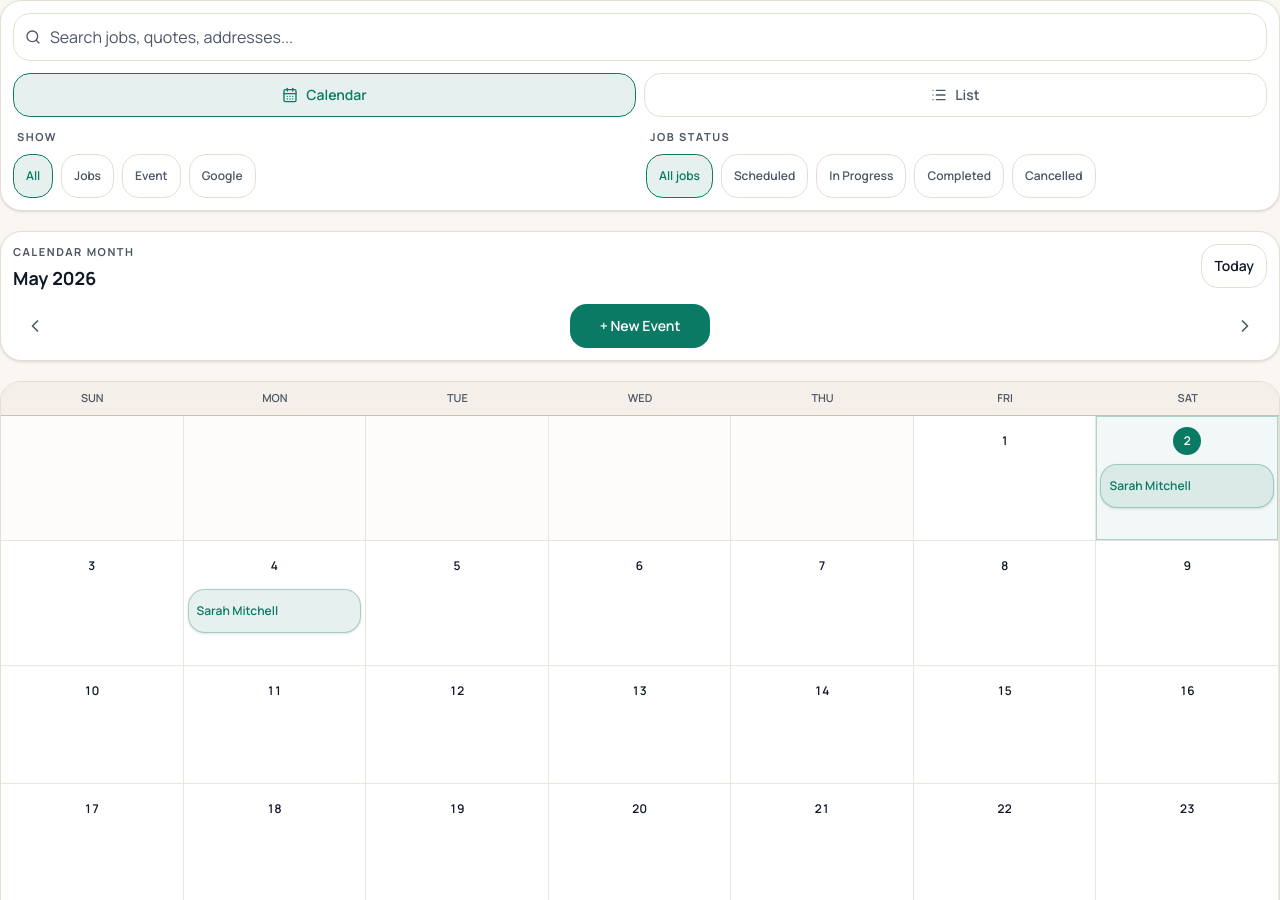
Test case: ScheduleCalendar › opens the shared event dialog with 44px controls and restores focus on Escape
Click the button "+ New Event" at [640, 326], box [570,304,710,348]
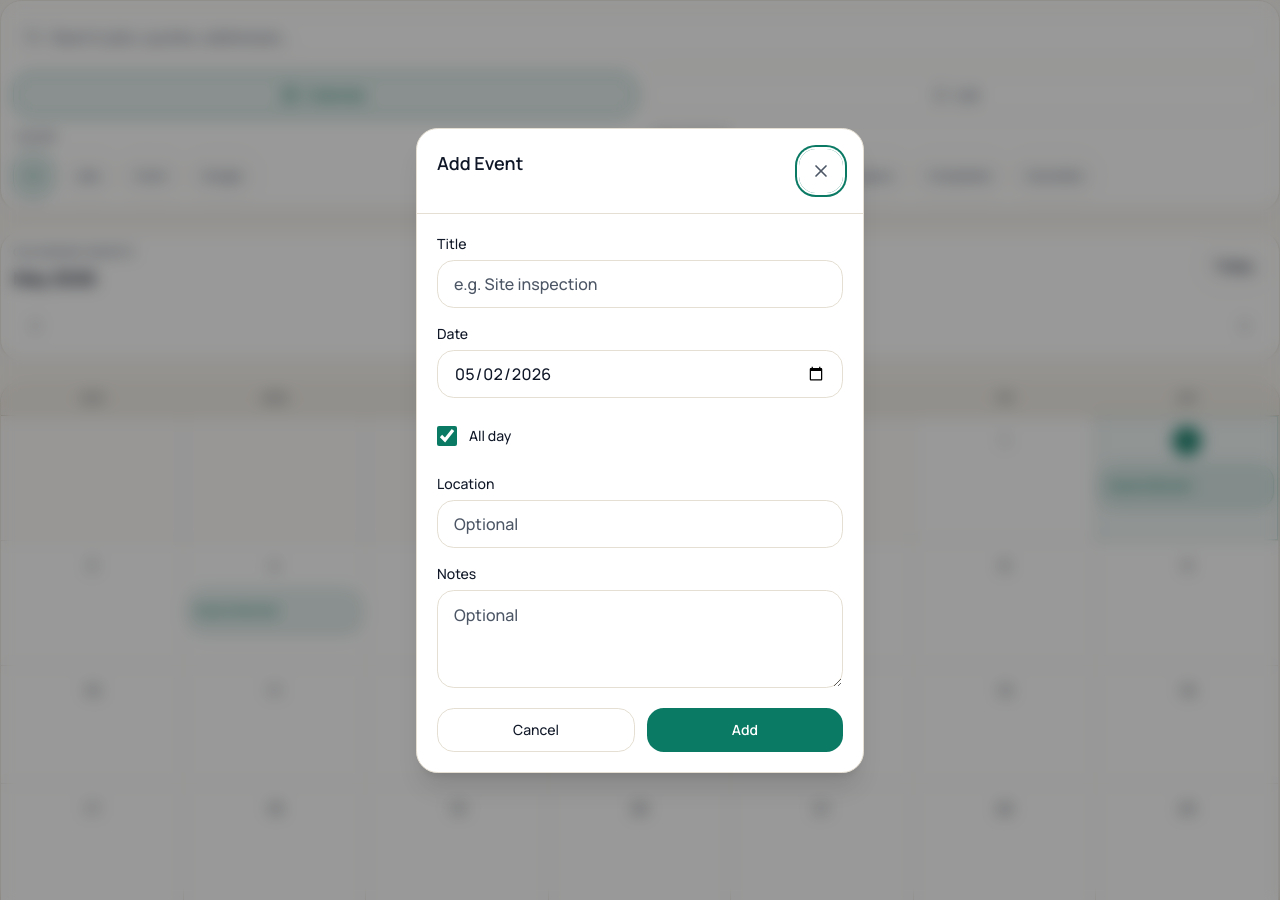
Press Escape
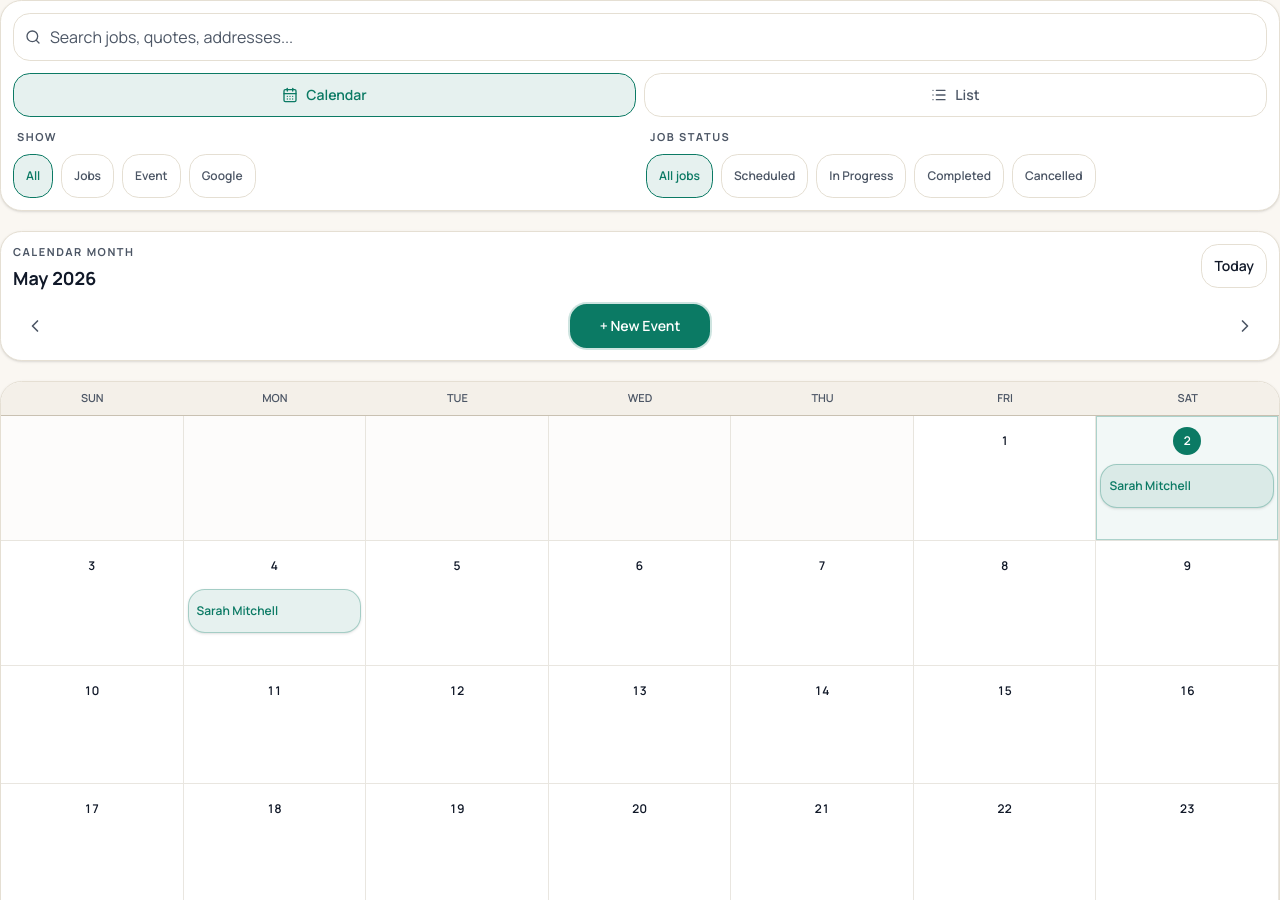
Now the heading "Add Event" is gone
